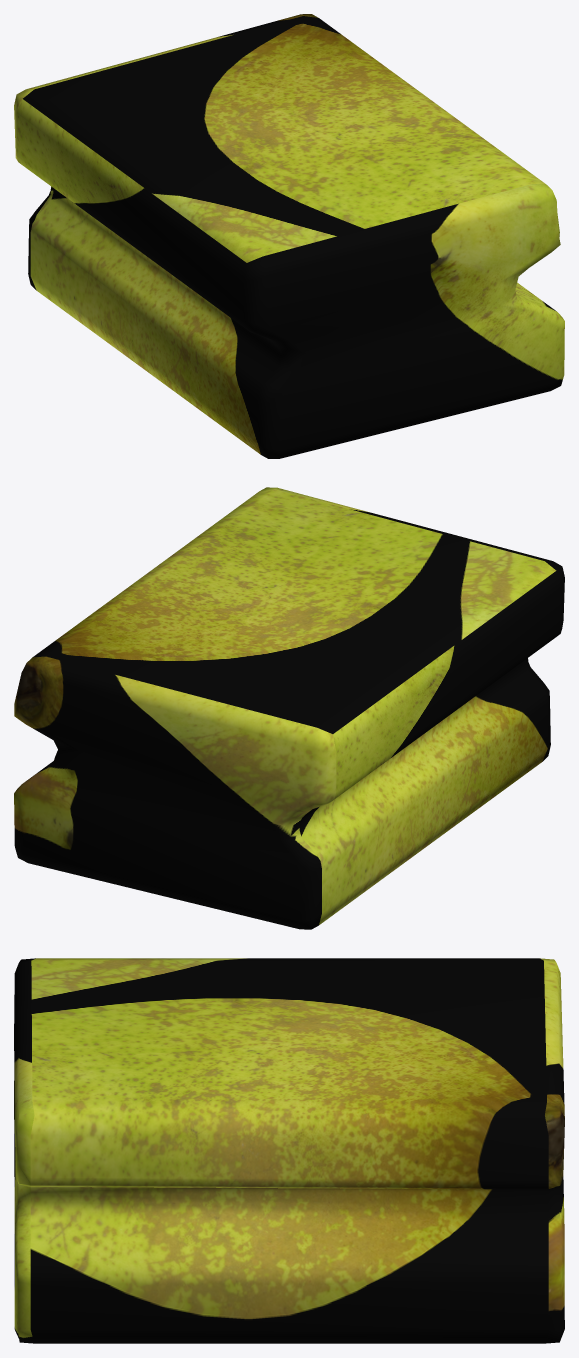
3 views of the same model, one above another, from view 1: azimuth 30°, elevation 25°; view 2: azimuth 150°, elevation 25°; view 3: azimuth 270°, elevation 25° (orthographic). The views are drawn at different scales.
Bounding box in the file's own units: 0.7533 × 0.4739 × 1.
